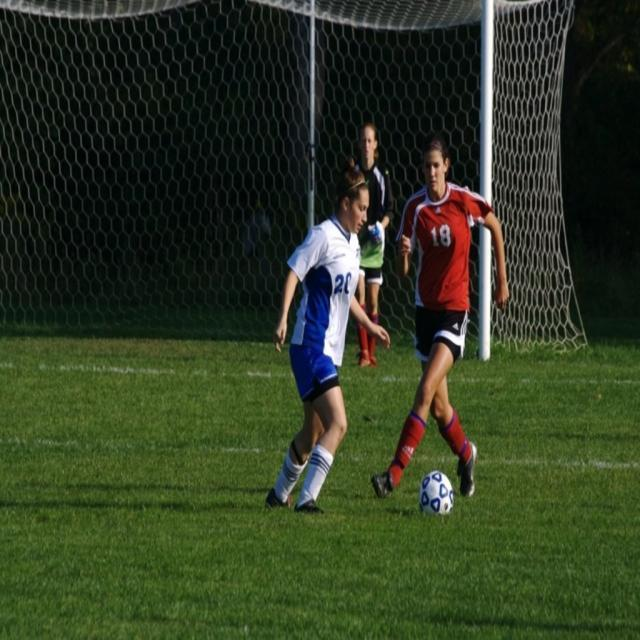ball: (420, 469, 453, 514)
